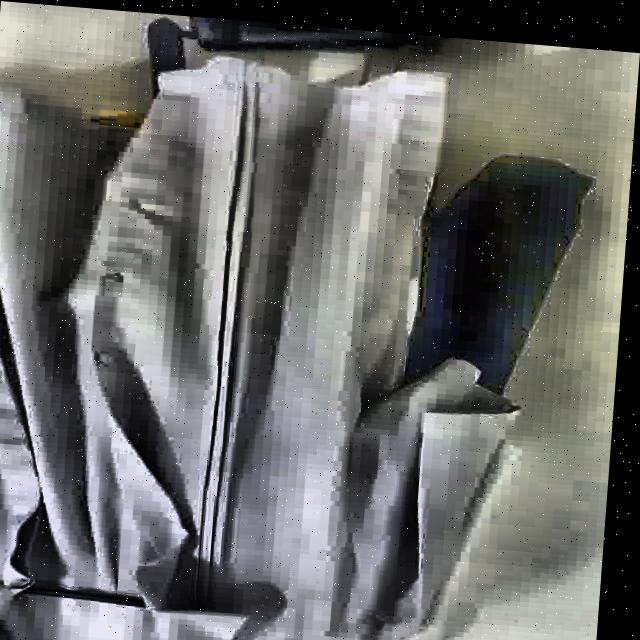clothes: (0, 39, 544, 640)
